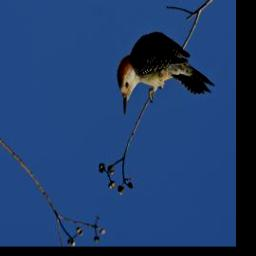Woodpecker: (108, 31, 217, 119)
